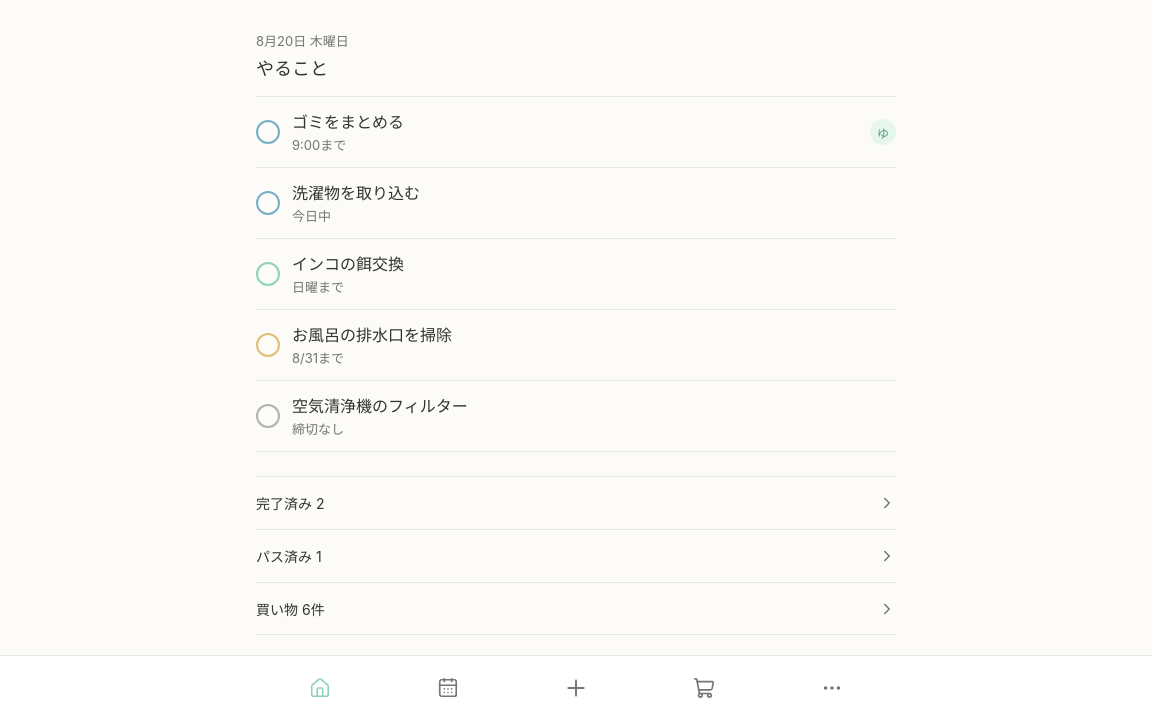
Test: hash routing › can navigate to /calendar through bottom navigation
The image size is (1152, 720).
Click the link named "カレンダー": x=448, y=688 [437,677,459,699]
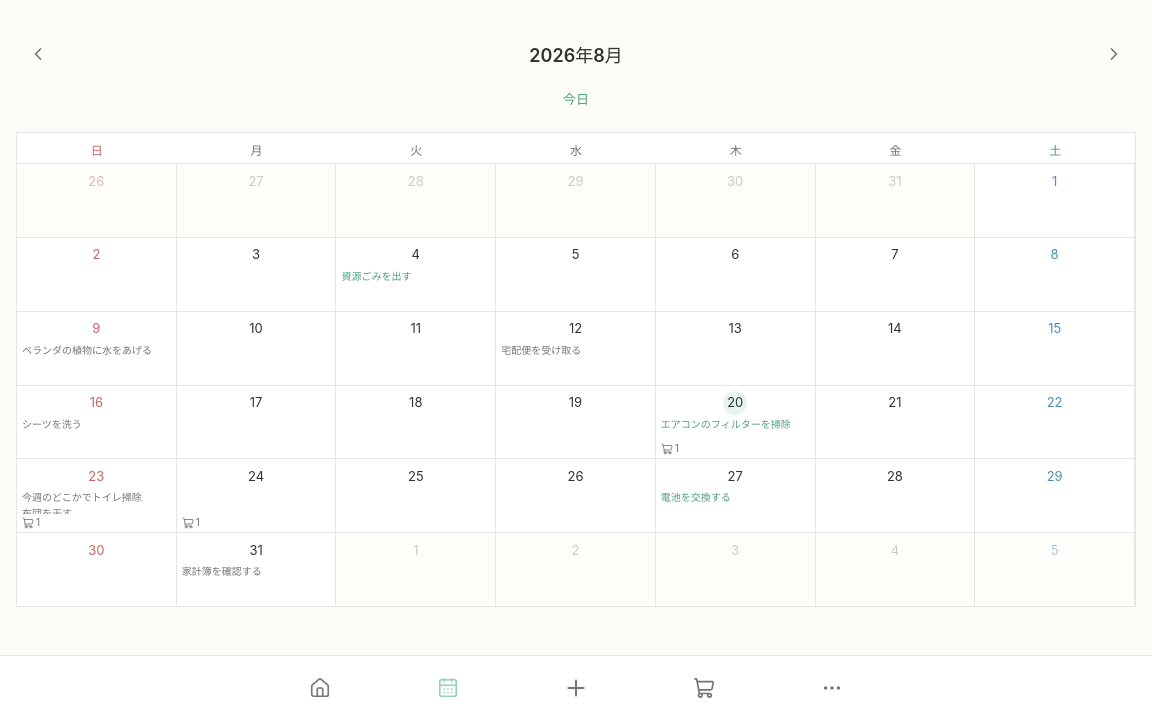
Expected: the heading "2026年8月" is shown, [529,45,623,66]
